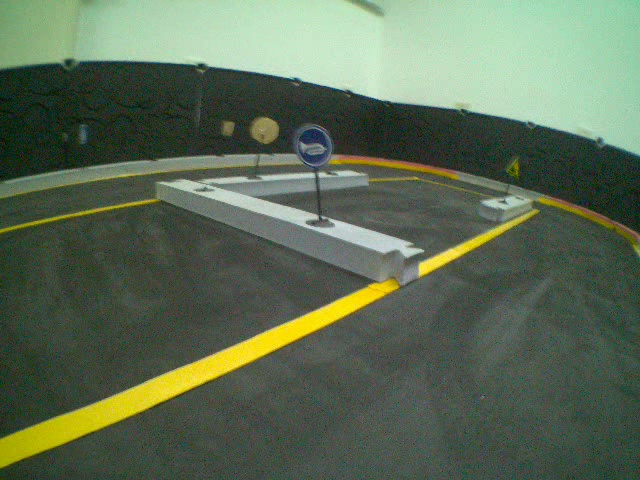fast: (503, 153, 524, 179)
horn: (292, 121, 335, 169)
